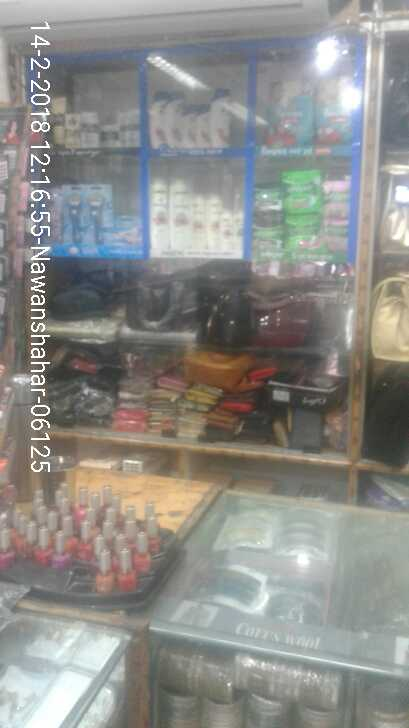venus: (87, 185, 112, 247), (60, 185, 87, 240), (112, 214, 143, 247)
